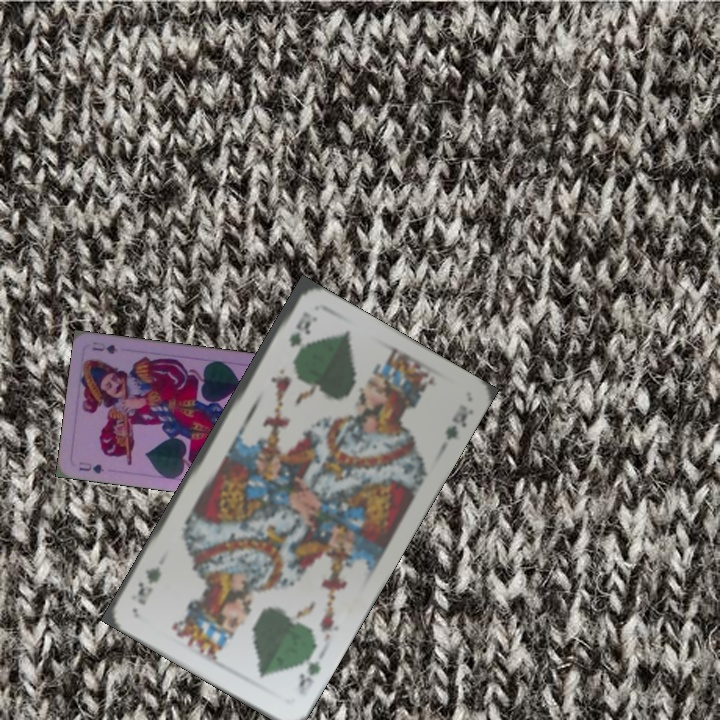GK: (294, 646, 324, 699), (285, 307, 317, 350)
GU: (75, 457, 107, 476)
